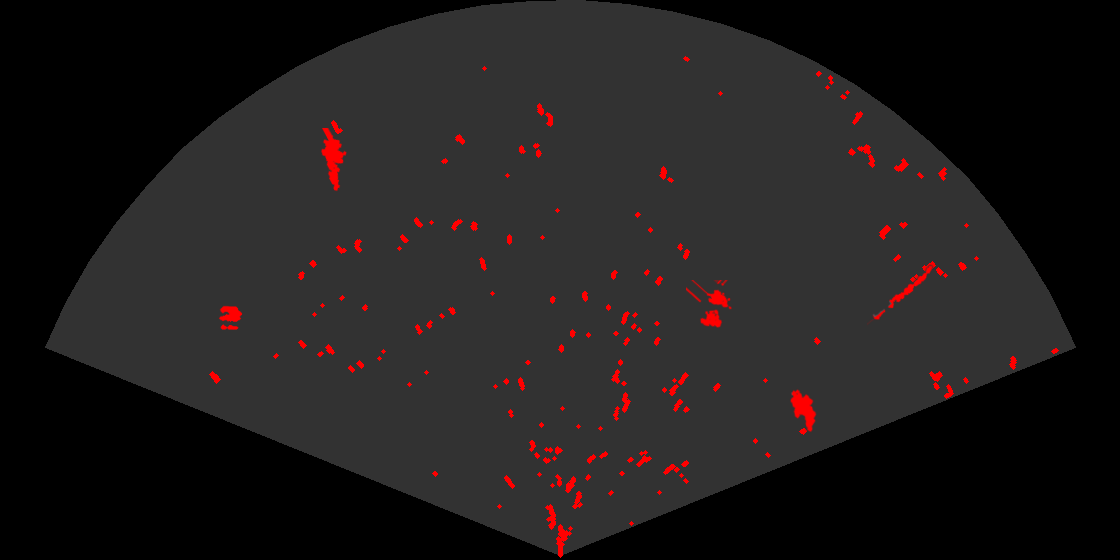AUV: (789, 388, 818, 434)
ball: (217, 304, 244, 331)
cage: (686, 280, 734, 329)
chain: (867, 264, 934, 327)
frogman: (320, 128, 348, 193)
